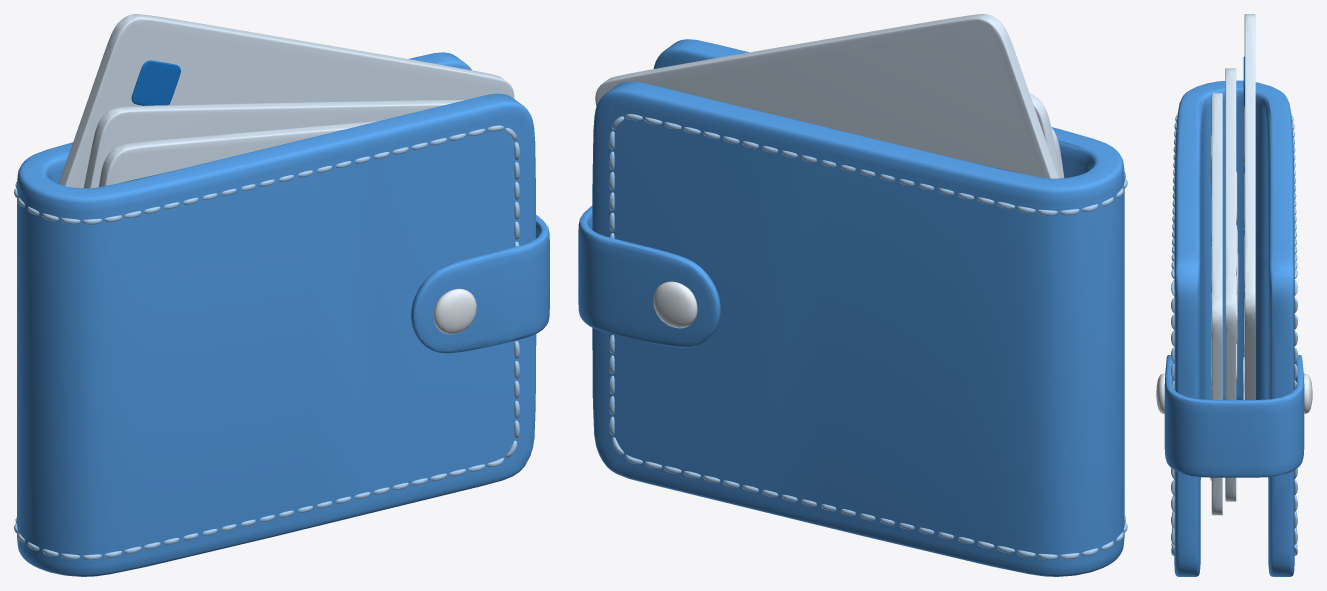
The model's file is wallet.glb.
The picture shows the model from 3 angles, left to right: view 1: azimuth 30°, elevation 25°; view 2: azimuth 150°, elevation 25°; view 3: azimuth 270°, elevation 25°; orthographic projection. The views are drawn at different scales.
Parts seen in each view (by area): view 1: Button.001, Card; view 2: Button.001, Card; view 3: Button.001, Card.
Boxes of the visible parts, x1,y1,x2,y2 form: Button.001: (14,52,549,576); Card: (59,14,514,188); Button.001: (578,39,1127,576); Card: (595,14,1064,178); Button.001: (1156,80,1312,576); Card: (1210,14,1255,515).
Bounding box in the file's own units: 2 × 1.94 × 0.646.
